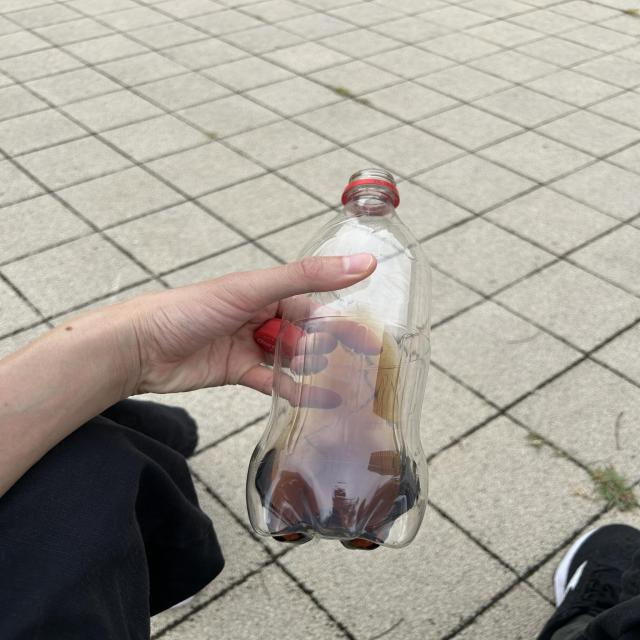low: (246, 170, 430, 551)
